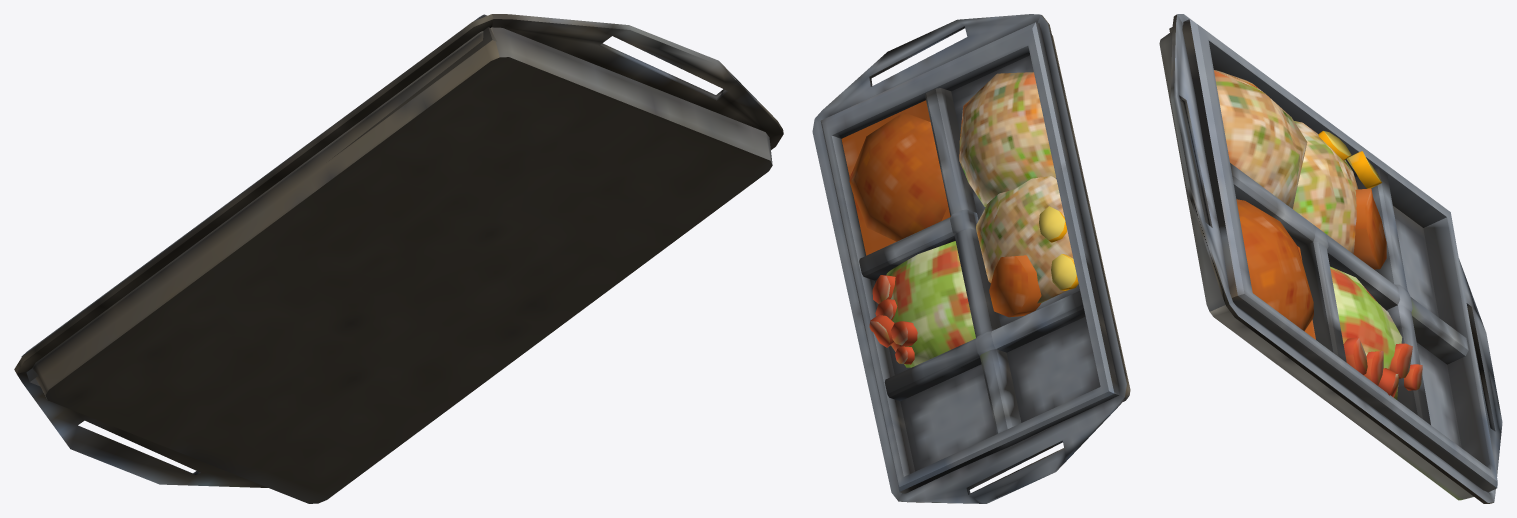
File: H_MessTray_Food.fbx
3 renders of one model, left to right at view 1: azimuth 30°, elevation 25°; view 2: azimuth 150°, elevation 25°; view 3: azimuth 270°, elevation 25°, orthographic. The views are drawn at different scales.
Visible parts, largest first — view 1: MessTray.001; view 2: MessTray.001; view 3: MessTray.001.
Boxes of the visible parts, x1=… form: MessTray.001: x1=14, y1=14, x2=783, y2=503; MessTray.001: x1=812, y1=14, x2=1130, y2=503; MessTray.001: x1=1159, y1=14, x2=1502, y2=503.
Size of the model in its own units: 77.01 by 73.35 by 47.25.
